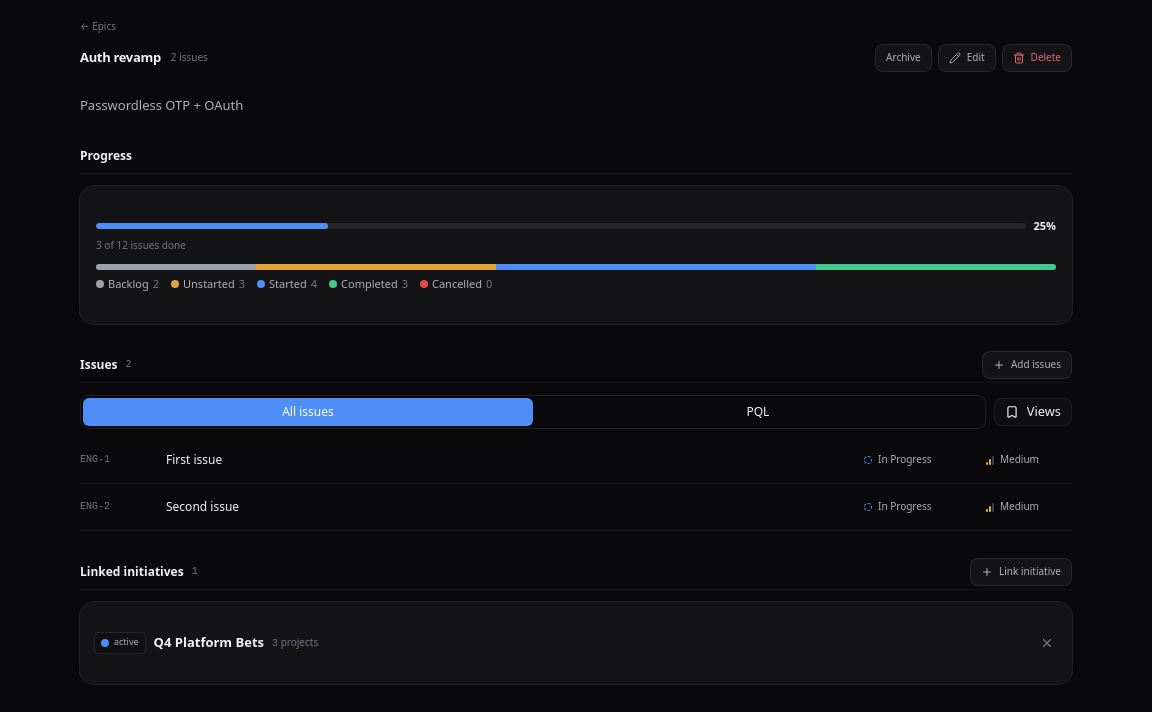
epic detail saved views (C108T3) › the detail editor shows the corrected save hint
Check: the text "First issue" is shown, box [166, 451, 222, 468]
Click the button "PQL".
click(758, 412)  # box [533, 398, 983, 426]
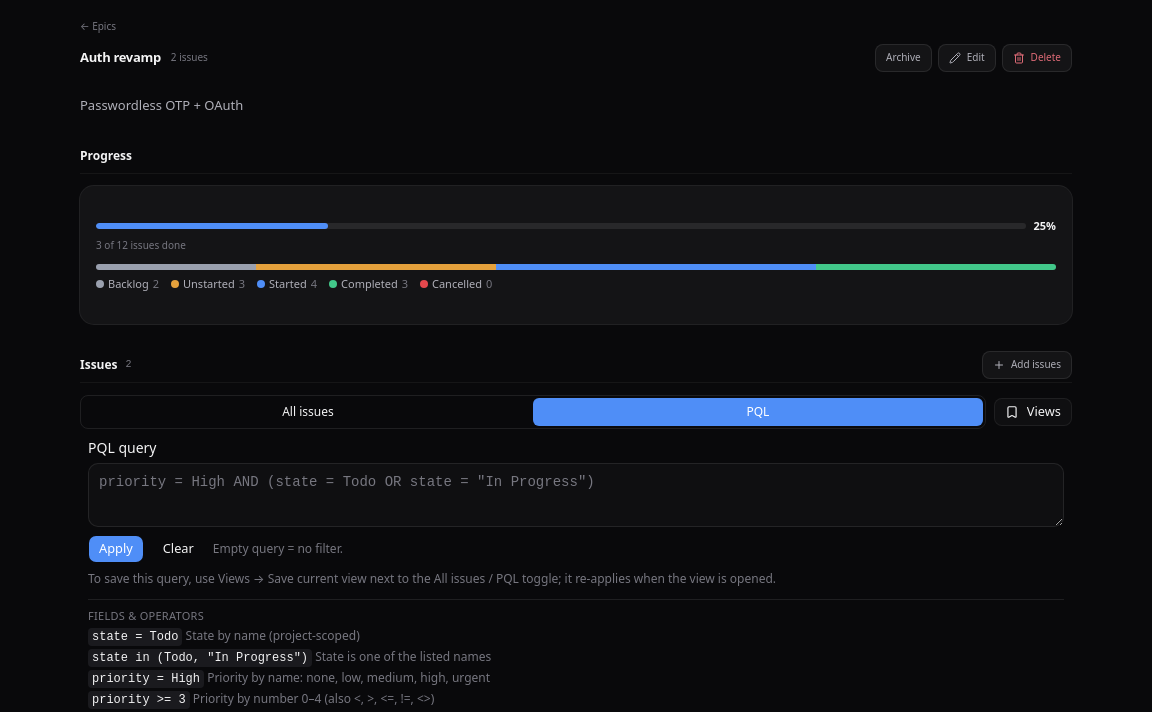
Check: the text box labelled "PQL query" is shown, box [88, 463, 1064, 527]
Check: the text "To save this query, use Views → Save current view next to the All issues / PQL toggle; it re-applies when the view is op" is shown, box [88, 570, 776, 587]
